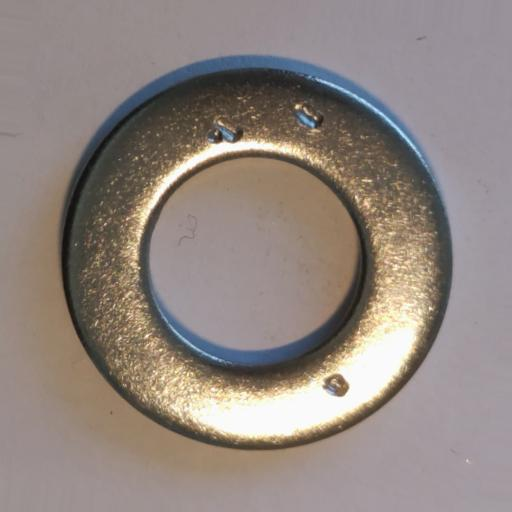circular_cavity: (205, 116, 243, 144), (292, 100, 326, 129), (322, 372, 350, 397)
